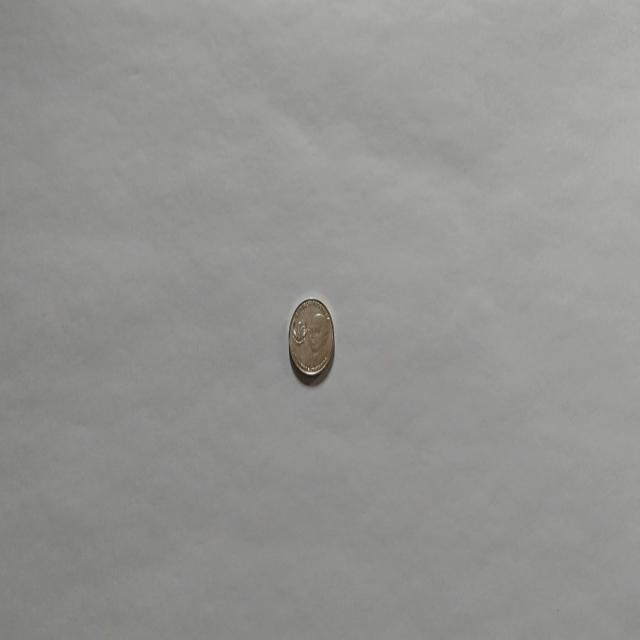lima ratus rupiah: (287, 296, 335, 379)
